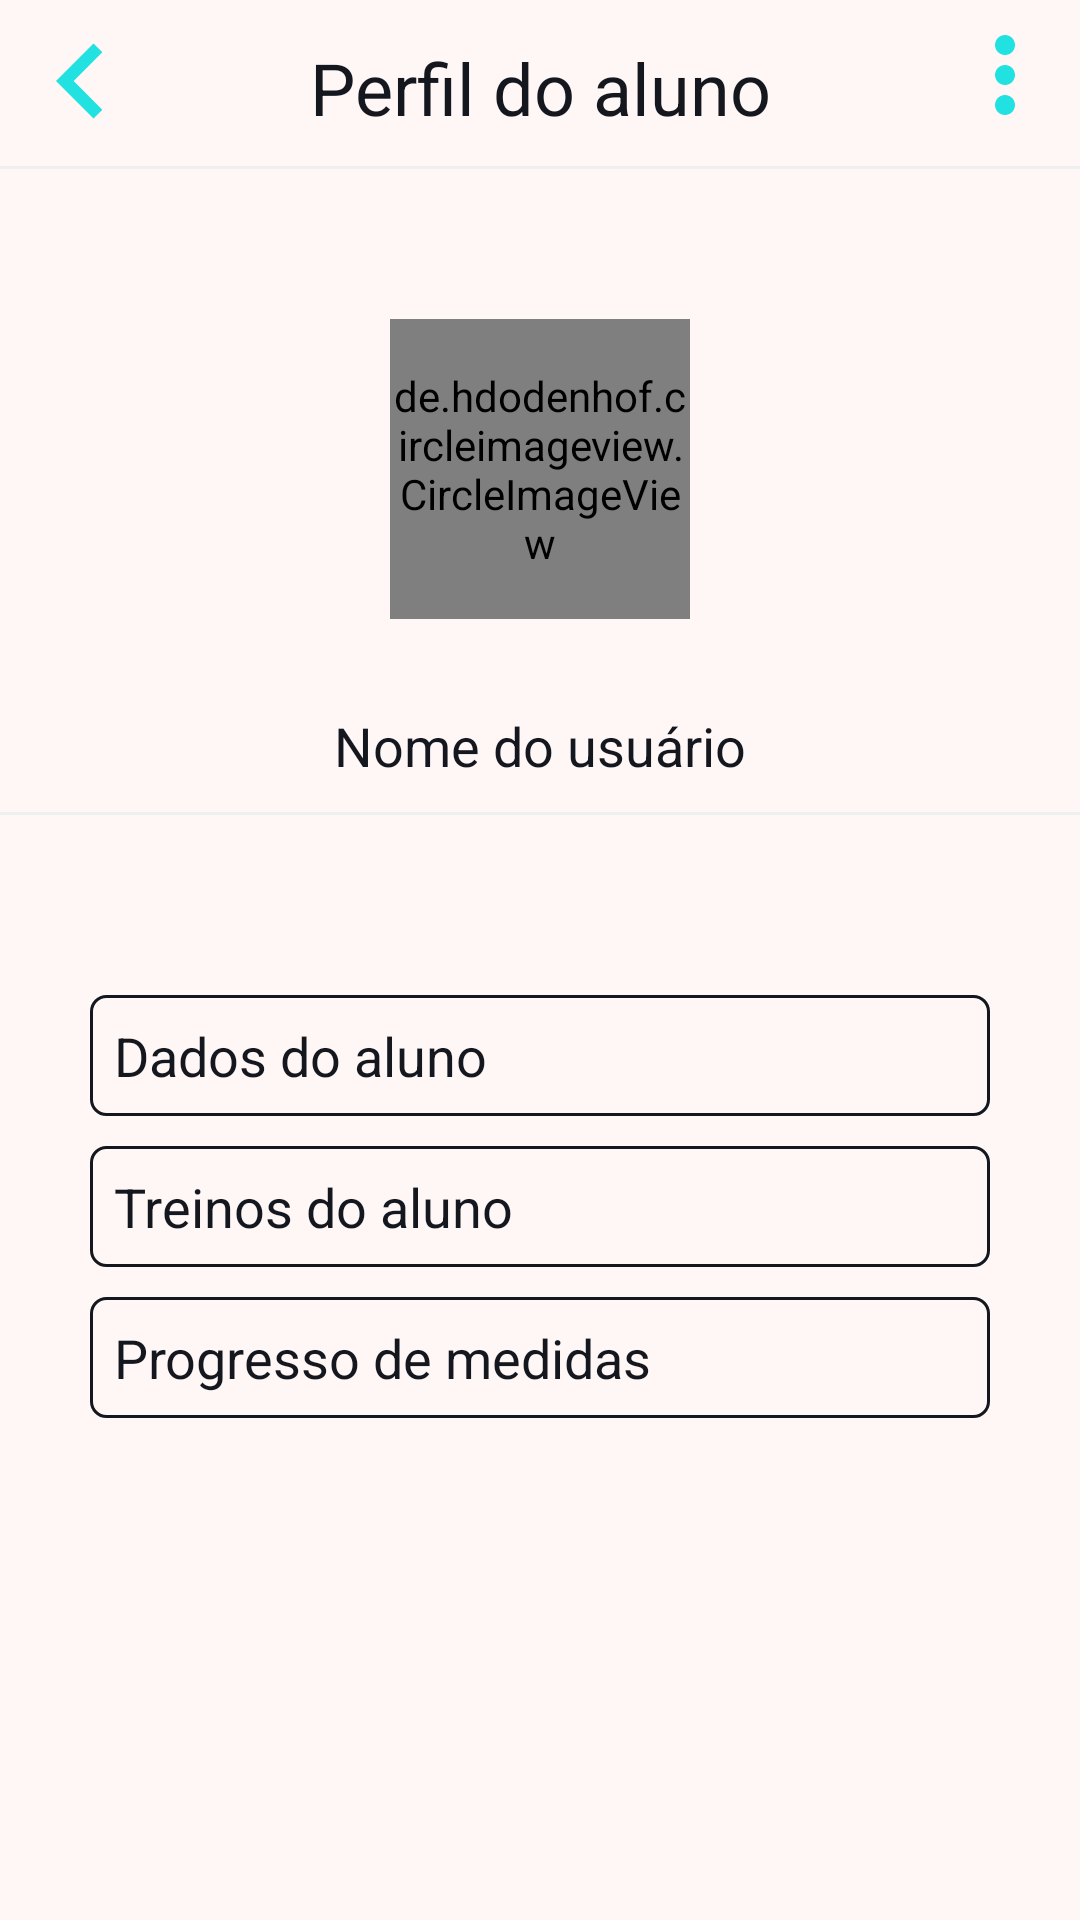

Screen size 1080px x 1920px. Icon name, then its box in pixels as (x1, y1, x2, y2):
more: (995, 35, 1015, 115)
